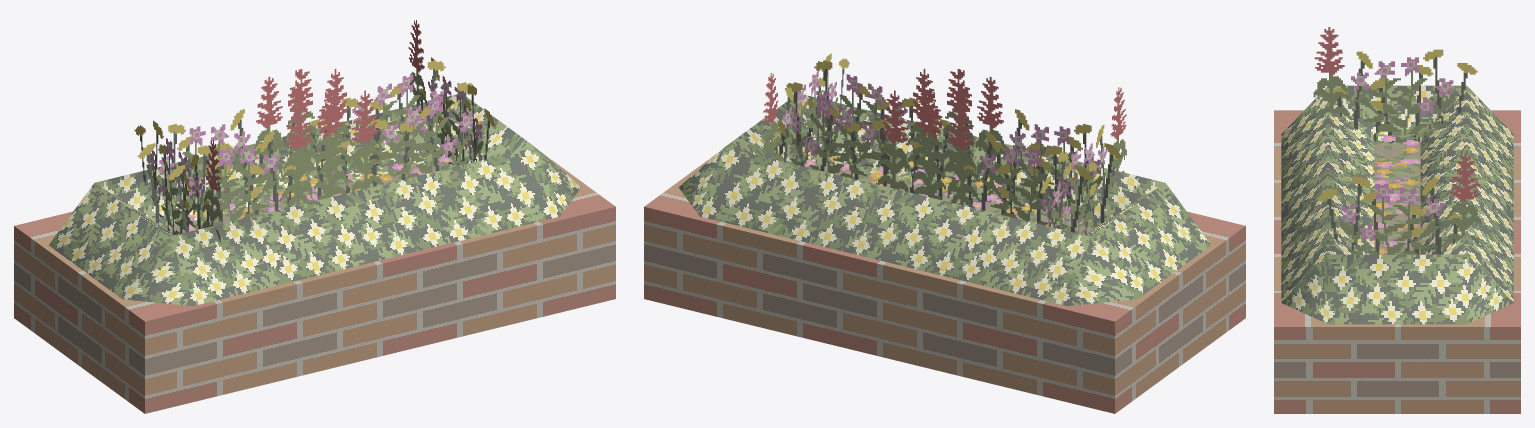
The model's file is 00ea_Flower_Bed.glb.
3 renders of one model, left to right at view 1: azimuth 30°, elevation 25°; view 2: azimuth 150°, elevation 25°; view 3: azimuth 270°, elevation 25°, orthographic. The views are drawn at different scales.
Parts seen in each view (by area): view 1: part_0; view 2: part_0; view 3: part_0.
Boxes of the visible parts, <box> form: part_0: <box>14,20,615,413</box>; part_0: <box>644,53,1245,413</box>; part_0: <box>1274,27,1520,413</box>.
Size of the model in its own units: 2.35 by 1.09 by 1.13.
Materials: 1 (1 with a texture image).
